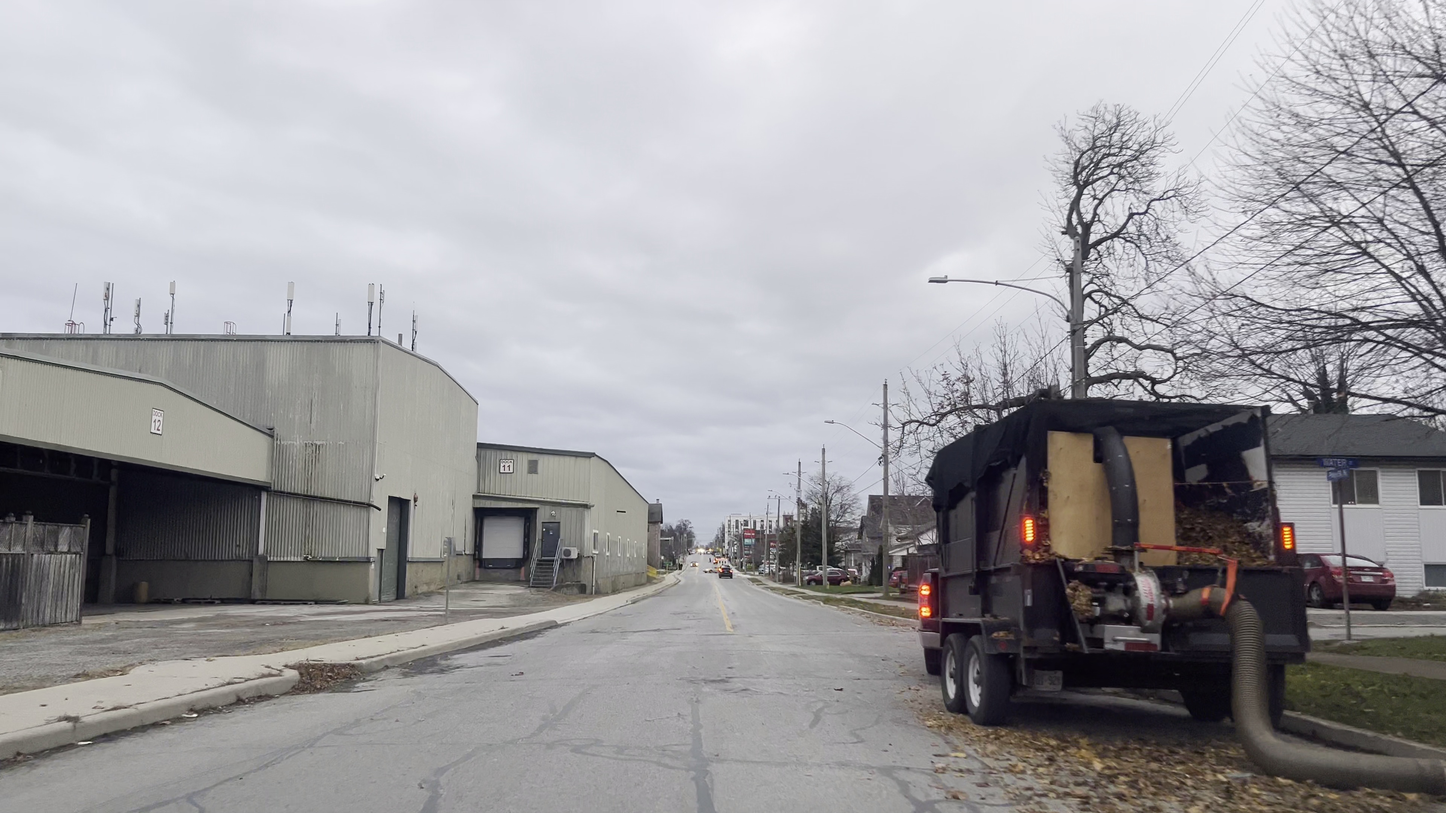cracks: (869, 761, 990, 808), (677, 699, 716, 812), (418, 759, 466, 810)
